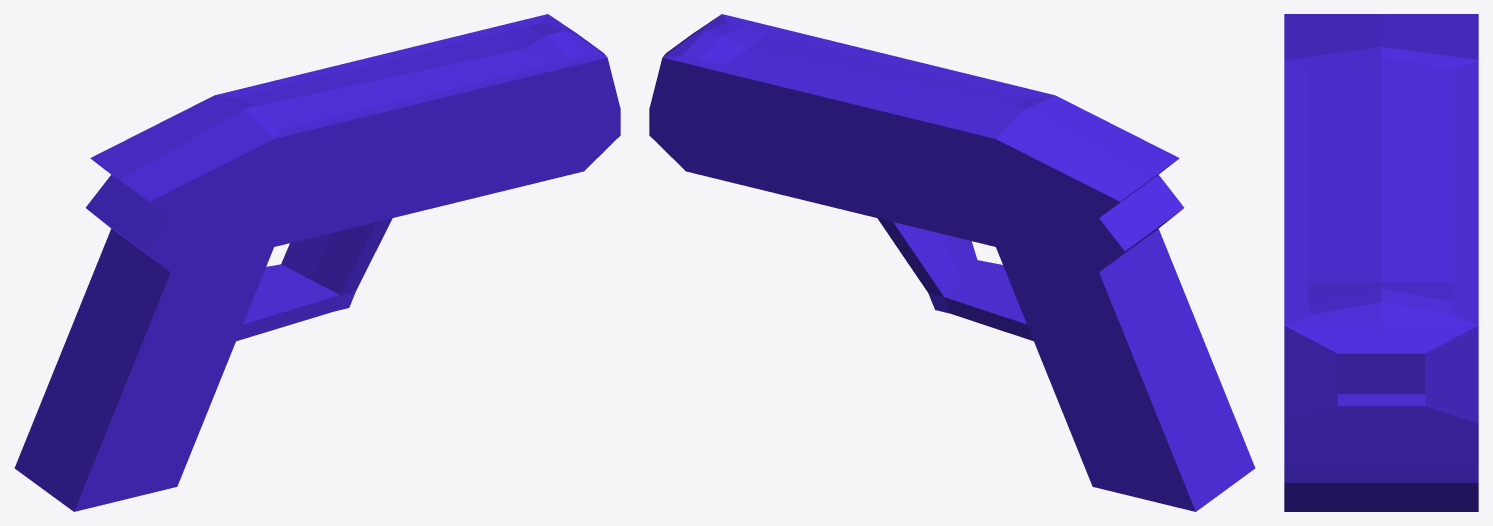
File: tabanca.fbx
3 renders of one model, left to right at view 1: azimuth 30°, elevation 25°; view 2: azimuth 150°, elevation 25°; view 3: azimuth 270°, elevation 25°, orthographic. The views are drawn at different scales.
Parts seen in each view (by area): view 1: Pistol; view 2: Pistol; view 3: Pistol.
Part boxes in pixels (left/top/right/bottom): Pistol: left=14, top=14, right=620, bottom=511; Pistol: left=649, top=14, right=1255, bottom=511; Pistol: left=1284, top=14, right=1478, bottom=511.
Bounding box in the file's own units: 1058 × 615 × 200.
